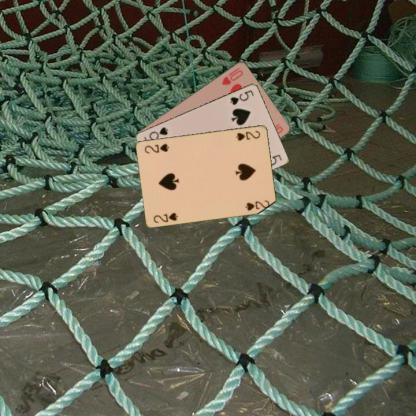10h: (219, 65, 244, 86)
2s: (151, 210, 179, 224), (234, 128, 261, 142)
5s: (228, 88, 255, 106)
